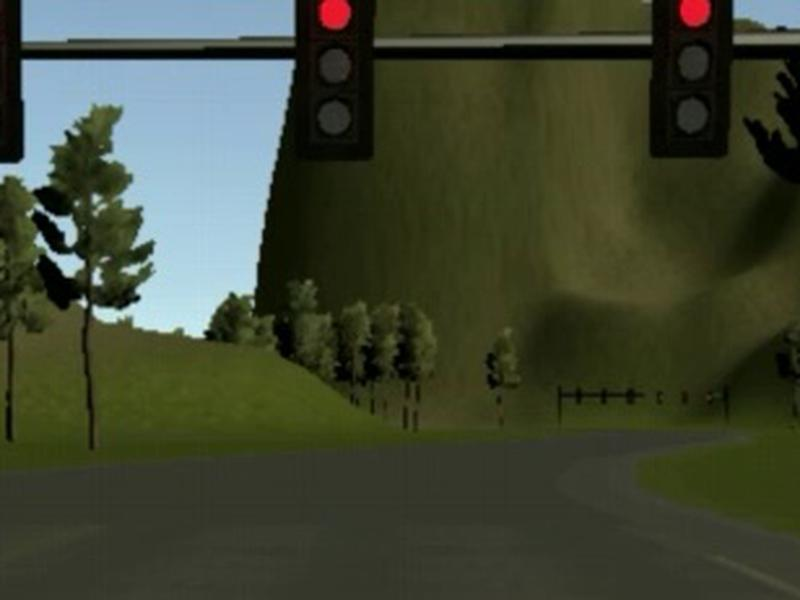Red: (296, 1, 377, 164), (650, 1, 734, 157)
